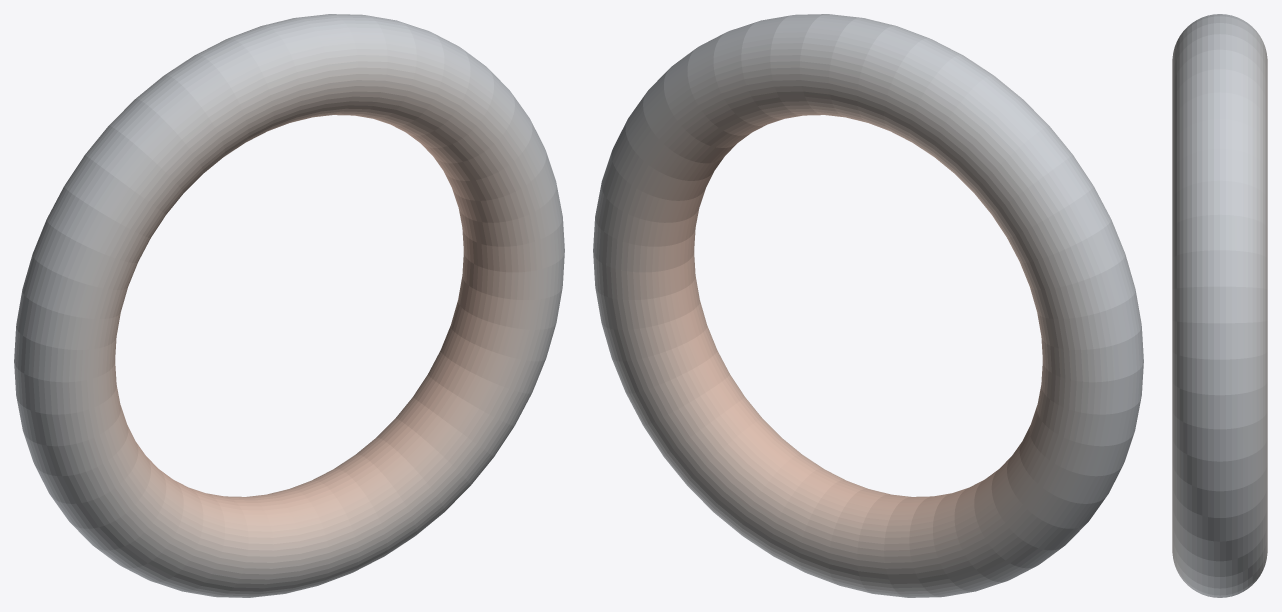
3 views of the same model, side by side, from view 1: azimuth 30°, elevation 25°; view 2: azimuth 150°, elevation 25°; view 3: azimuth 270°, elevation 25° (orthographic). The views are drawn at different scales.
Visible parts, largest first — view 1: world; view 2: world; view 3: world.
Boxes of the visible parts, x1,y1,x2,y2 form: world: (14,14,564,597); world: (593,14,1143,597); world: (1172,14,1267,597).
Bounding box in the file's own units: 30.27 × 30.21 × 4.92.
